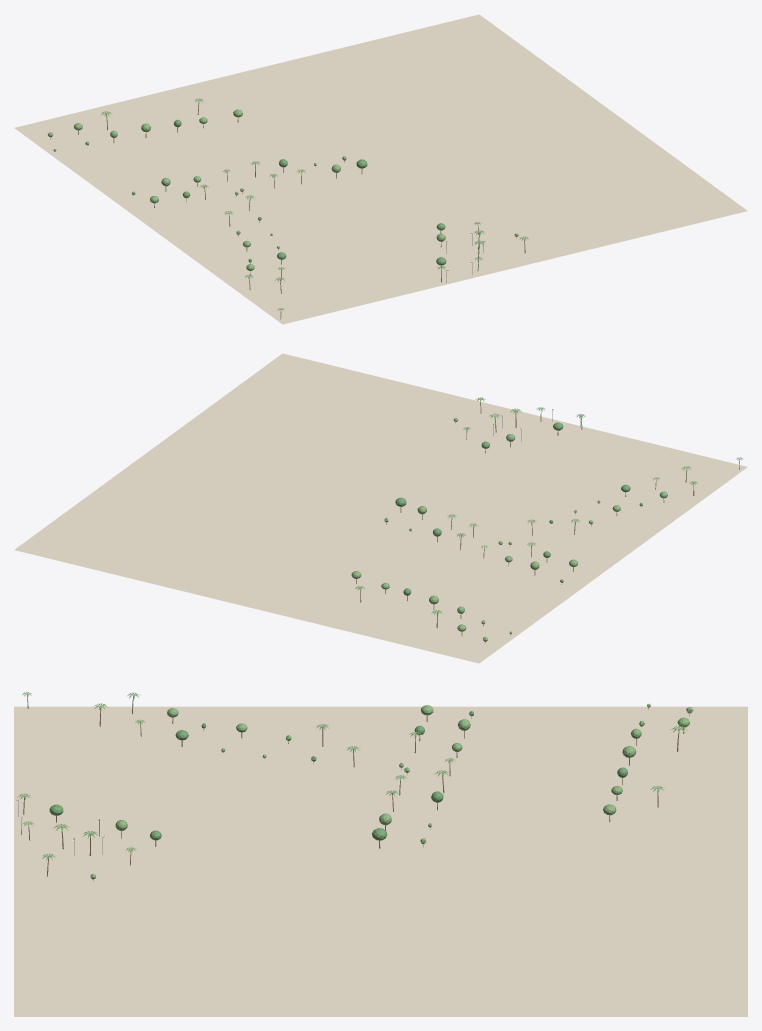
Rendered from nature_5_0.glb.
3 views of the same model, one above another, from view 1: azimuth 30°, elevation 25°; view 2: azimuth 150°, elevation 25°; view 3: azimuth 270°, elevation 25° (orthographic). The views are drawn at different scales.
Visible parts, largest first — view 1: ground, foliage_b, palm_leaf; view 2: ground, foliage_b, palm_leaf; view 3: ground, foliage_b, palm_leaf, foliage_a, trunk.
Part boxes in pixels (<box>): ground: <box>14,14,747,324</box>; foliage_b: <box>47,109,518,270</box>; palm_leaf: <box>101,98,529,311</box>; ground: <box>14,353,747,663</box>; foliage_b: <box>351,418,667,641</box>; palm_leaf: <box>355,397,743,615</box>; ground: <box>14,706,747,1016</box>; foliage_b: <box>90,703,693,879</box>; palm_leaf: <box>17,692,687,860</box>; foliage_a: <box>49,711,627,840</box>; trunk: <box>23,695,689,881</box>.
Size of the model in its own units: 250 by 8.94 by 250.
